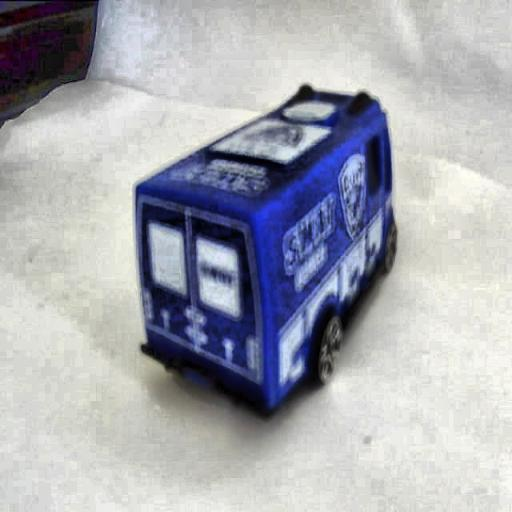police car: (130, 86, 400, 417)
